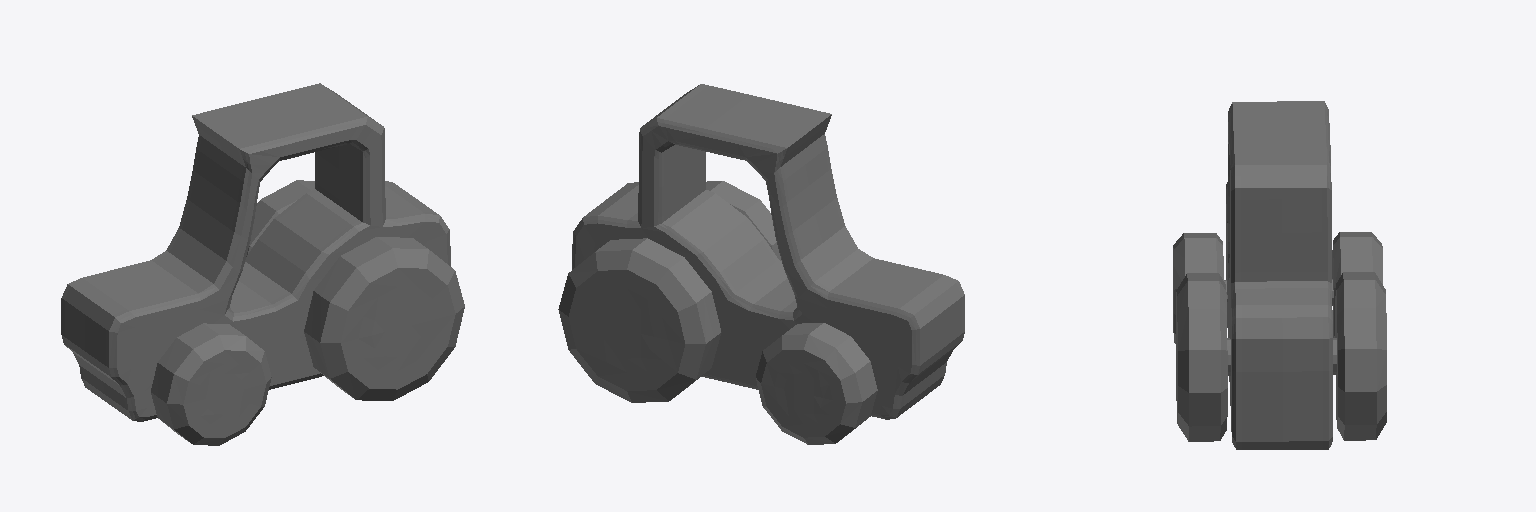
The model's file is Carro_de_Brinquedo_2.obj.
The picture shows the model from 3 angles: view 1: azimuth 30°, elevation 25°; view 2: azimuth 150°, elevation 25°; view 3: azimuth 270°, elevation 25°; orthographic projection.
Parts seen in each view (by area): view 1: Toy_Train:car_small2; view 2: Toy_Train:car_small2; view 3: Toy_Train:car_small2.
Part boxes in pixels (left/top/right/bottom): Toy_Train:car_small2: left=61, top=83, right=464, bottom=445; Toy_Train:car_small2: left=558, top=84, right=964, bottom=444; Toy_Train:car_small2: left=1173, top=101, right=1386, bottom=449.
Size of the model in its own units: 0.2043 by 0.1513 by 0.1093.